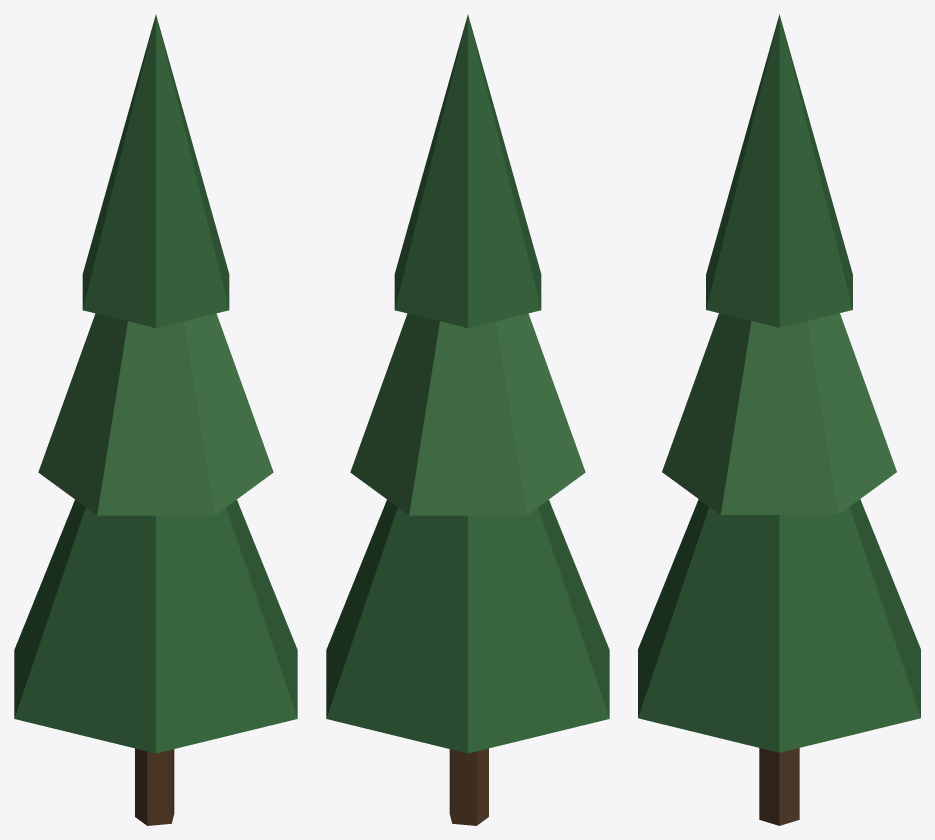
3 renders of one model, left to right at view 1: azimuth 30°, elevation 25°; view 2: azimuth 150°, elevation 25°; view 3: azimuth 270°, elevation 25°, orthographic.
Visible parts, largest first — view 1: pine; view 2: pine; view 3: pine.
Part boxes in pixels (left/top/right/bottom): pine: left=14, top=15, right=297, bottom=825; pine: left=326, top=15, right=609, bottom=825; pine: left=638, top=14, right=920, bottom=825.
Bounding box in the file's own units: 2 × 5.42 × 1.73.
Materials: 1 (1 with a texture image).
